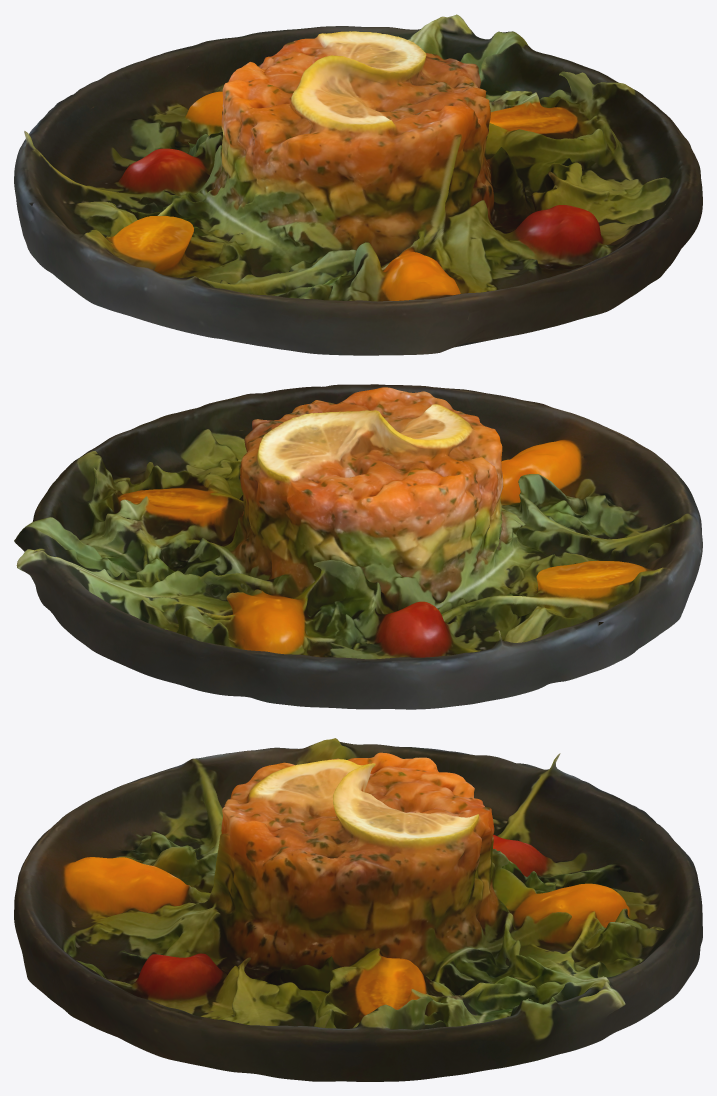
The picture shows the model from 3 angles, top to bottom: view 1: azimuth 30°, elevation 25°; view 2: azimuth 150°, elevation 25°; view 3: azimuth 270°, elevation 25°; orthographic projection. The views are drawn at different scales.
Visible parts, largest first — view 1: defaultGroup0; view 2: defaultGroup0; view 3: defaultGroup0.
Part boxes in pixels (x1,y1,x2,y2): defaultGroup0: (14, 14, 702, 355); defaultGroup0: (14, 384, 702, 709); defaultGroup0: (14, 738, 702, 1081).
Size of the model in its own units: 0.2122 by 0.0551 by 0.2119.
Materials: 2 (1 with a texture image).
